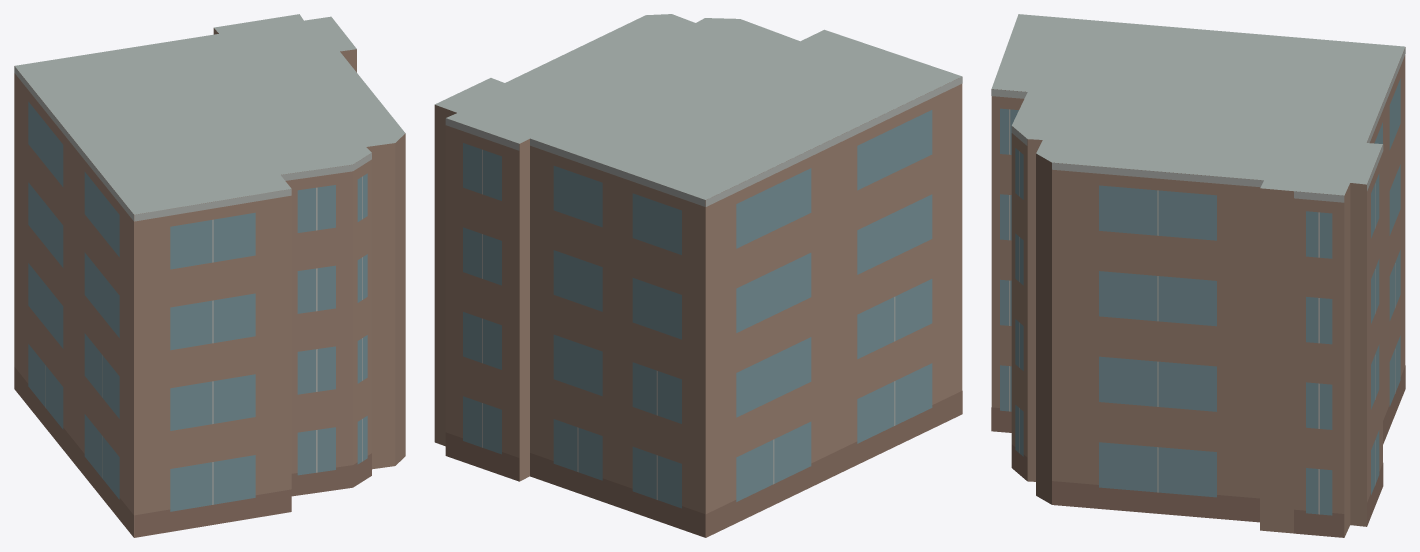
The model's file is survey-upis-32717356.glb.
The picture shows the model from 3 angles, left to right: view 1: azimuth 30°, elevation 25°; view 2: azimuth 150°, elevation 25°; view 3: azimuth 270°, elevation 25°; orthographic projection. The views are drawn at different scales.
Parts seen in each view (by area): view 1: survey-upis-32717356.tmp; view 2: survey-upis-32717356.tmp; view 3: survey-upis-32717356.tmp.
Part boxes in pixels (x1,y1,x2,y2): survey-upis-32717356.tmp: (14, 14, 405, 537); survey-upis-32717356.tmp: (434, 14, 962, 537); survey-upis-32717356.tmp: (991, 14, 1405, 537).
Bounding box in the file's own units: 13.2 × 11.6 × 12.73.
